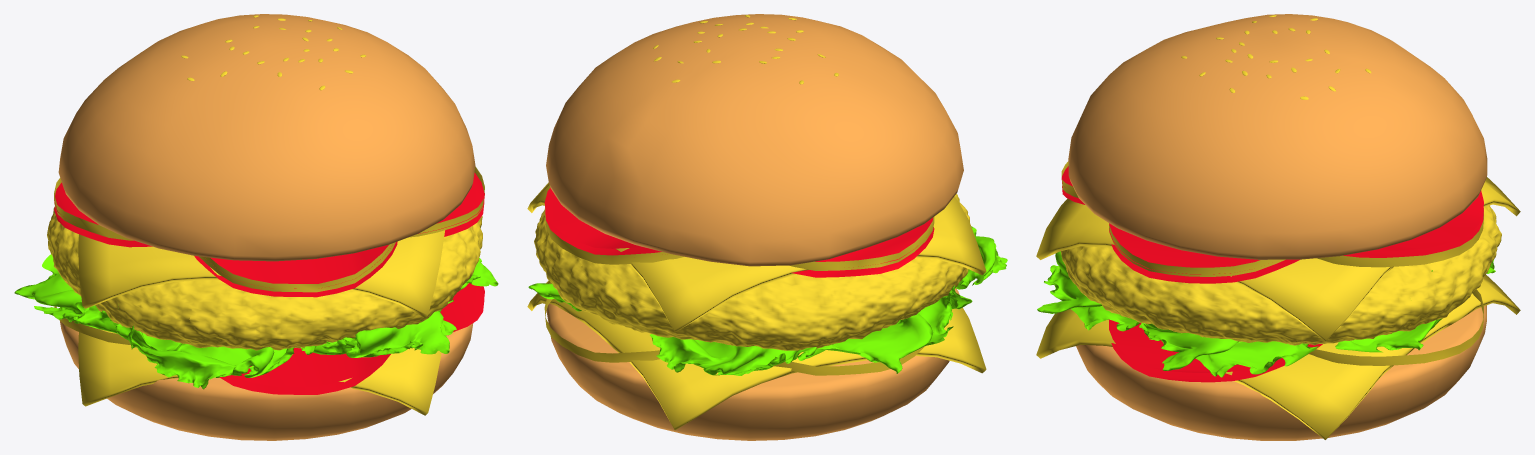
Rendered from ToyObject_096.fbx.
The picture shows the model from 3 angles, left to right: view 1: azimuth 30°, elevation 25°; view 2: azimuth 150°, elevation 25°; view 3: azimuth 270°, elevation 25°; orthographic projection.
Visible parts, largest first — view 1: Object.058; view 2: Object.058; view 3: Object.058.
Part boxes in pixels (x1,y1,x2,y2): Object.058: (14, 14, 498, 440); Object.058: (527, 14, 1007, 440); Object.058: (1036, 14, 1520, 440).
Size of the model in its own units: 0.1327 by 0.1027 by 0.1334.
